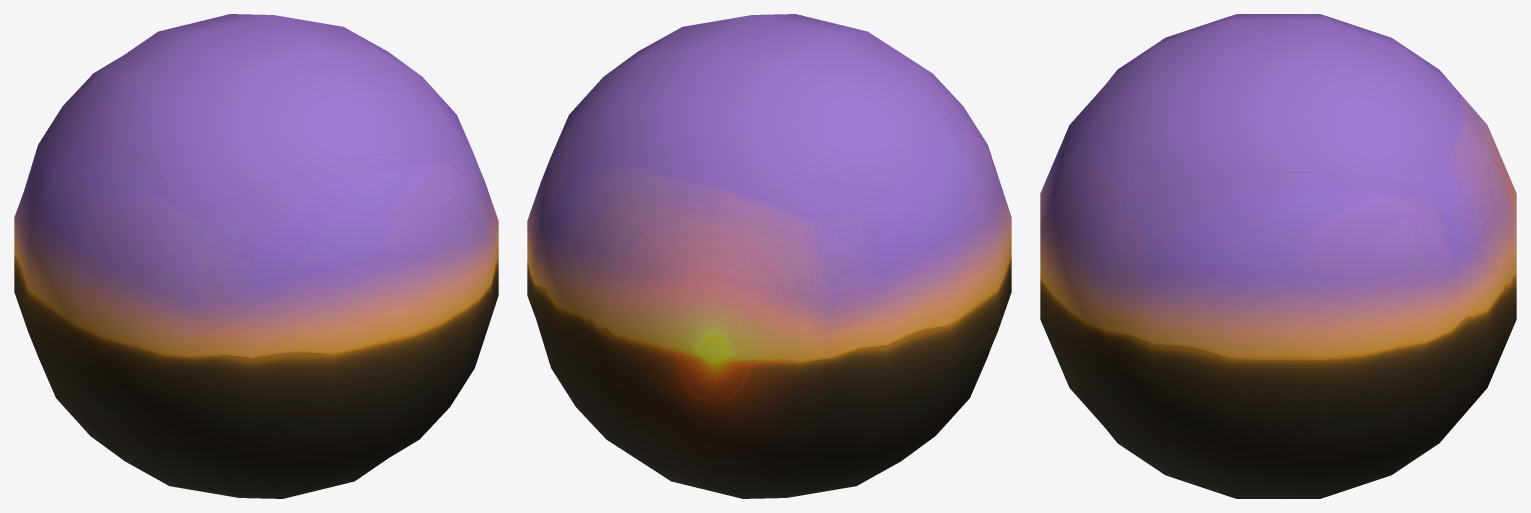
Rendered from CH09_SMAUG_PLAYSURFACE_LONELYMOUNTAIN_SKYBOX.fbx.
The picture shows the model from 3 angles, left to right: view 1: azimuth 30°, elevation 25°; view 2: azimuth 150°, elevation 25°; view 3: azimuth 270°, elevation 25°; orthographic projection.
Parts seen in each view (by area): view 1: CH09_SMAUG_PLAYSURFACE_LONELYMOUNTAIN_SKYBOX; view 2: CH09_SMAUG_PLAYSURFACE_LONELYMOUNTAIN_SKYBOX; view 3: CH09_SMAUG_PLAYSURFACE_LONELYMOUNTAIN_SKYBOX.
Boxes of the visible parts, <box> form: CH09_SMAUG_PLAYSURFACE_LONELYMOUNTAIN_SKYBOX: <box>14,14,498,498</box>; CH09_SMAUG_PLAYSURFACE_LONELYMOUNTAIN_SKYBOX: <box>527,14,1011,498</box>; CH09_SMAUG_PLAYSURFACE_LONELYMOUNTAIN_SKYBOX: <box>1040,14,1516,498</box>.
Size of the model in its own units: 528872 by 528872 by 528872.
8 materials, 8 textured.
